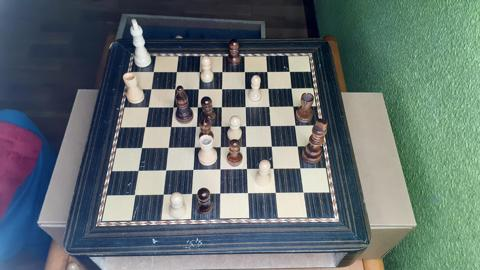xcorner: (241, 65, 249, 73), (288, 82, 296, 89), (265, 82, 272, 90), (291, 100, 298, 108), (266, 101, 274, 108), (193, 101, 201, 108), (217, 121, 225, 128), (300, 188, 308, 195), (287, 65, 294, 72), (264, 65, 271, 72), (219, 66, 226, 73), (196, 66, 203, 73), (173, 66, 180, 73), (150, 66, 157, 73), (242, 83, 249, 90), (218, 83, 225, 90), (195, 83, 202, 90), (171, 83, 178, 90), (147, 83, 154, 90), (242, 101, 249, 108), (218, 101, 225, 108), (169, 102, 176, 109), (144, 102, 151, 109), (293, 120, 300, 127), (268, 120, 275, 127), (243, 121, 250, 128), (192, 121, 199, 128), (167, 121, 174, 128), (141, 122, 148, 129), (295, 141, 302, 148), (269, 141, 276, 148), (243, 142, 250, 149), (217, 142, 224, 149), (191, 142, 198, 149), (164, 143, 171, 150), (138, 143, 145, 150), (298, 164, 305, 171), (271, 164, 278, 171), (244, 165, 251, 172), (216, 165, 223, 172), (189, 165, 196, 172), (162, 166, 169, 173), (134, 166, 141, 173), (272, 189, 279, 196), (244, 189, 251, 196), (216, 190, 223, 197), (187, 190, 194, 197), (159, 191, 166, 198), (130, 191, 137, 198)
